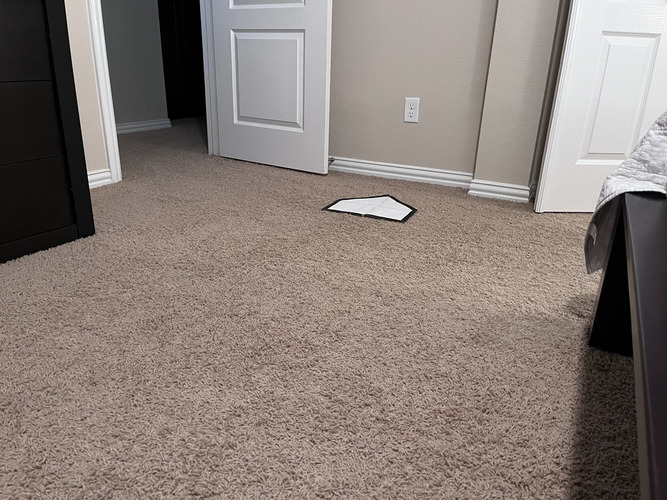homeplate: (321, 193, 417, 224)
